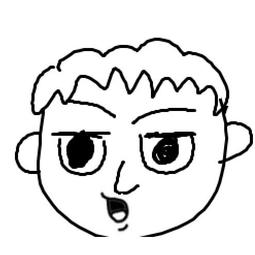ear: (11, 127, 47, 178), (220, 114, 254, 165)
eye: (135, 128, 204, 178), (48, 127, 109, 178)
eyebrow: (128, 102, 201, 128)
frowning_eyebrow: (71, 98, 118, 121)
nose: (112, 158, 138, 197)
open_mouth: (97, 193, 138, 220)
